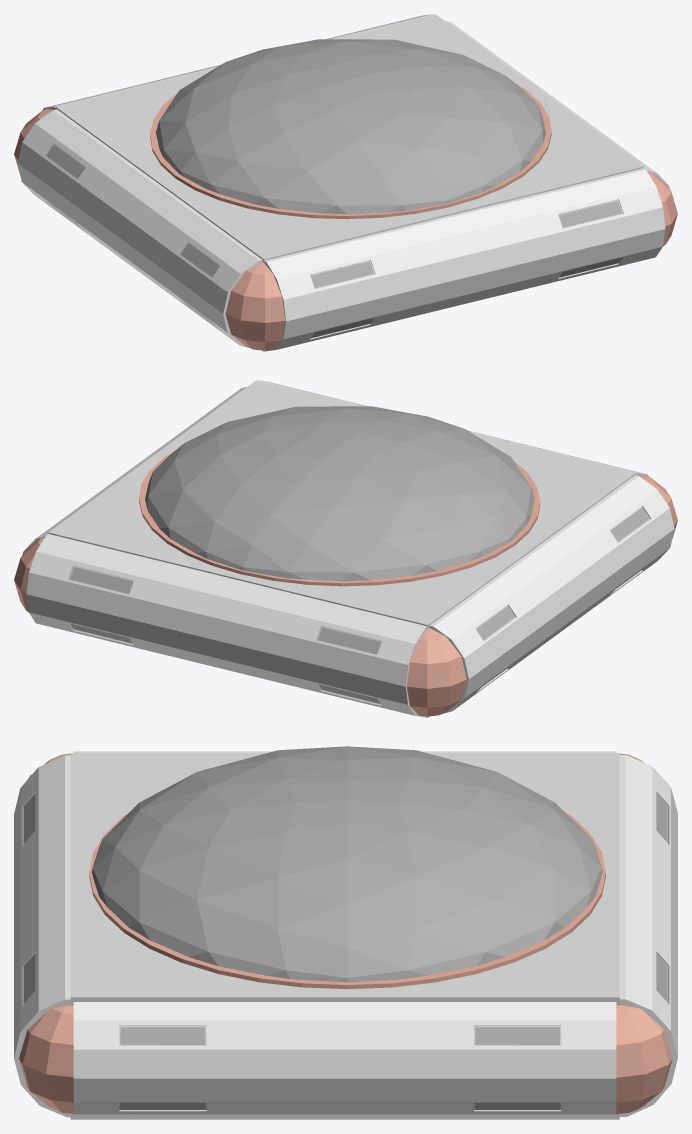
3 views of the same model, one above another, from view 1: azimuth 30°, elevation 25°; view 2: azimuth 150°, elevation 25°; view 3: azimuth 270°, elevation 25° (orthographic). The views are drawn at different scales.
Visible parts, largest first — view 1: Cylinder_11; view 2: Cylinder_11; view 3: Cylinder_11.
Boxes of the visible parts, left/top/right/bottom form: Cylinder_11: left=14, top=14, right=677, bottom=351; Cylinder_11: left=14, top=380, right=677, bottom=717; Cylinder_11: left=14, top=746, right=677, bottom=1119.
Bounding box in the file's own units: 1476 × 469 × 1429.
